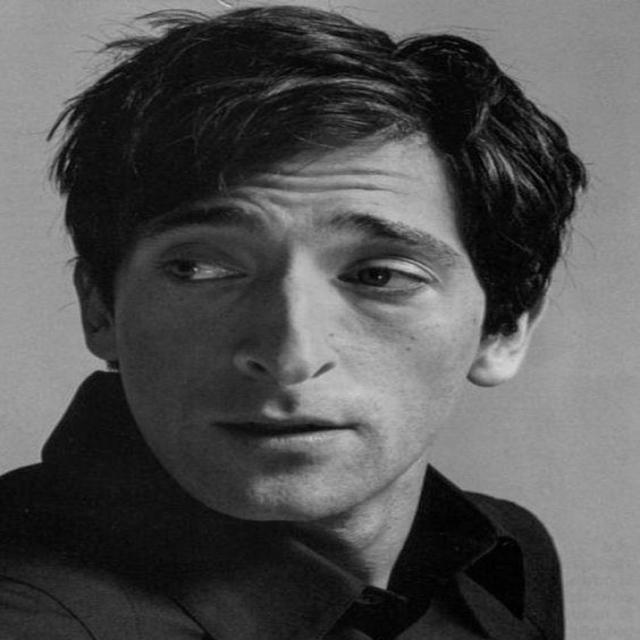Wrinkles: (246, 180, 407, 195), (272, 168, 416, 180)
